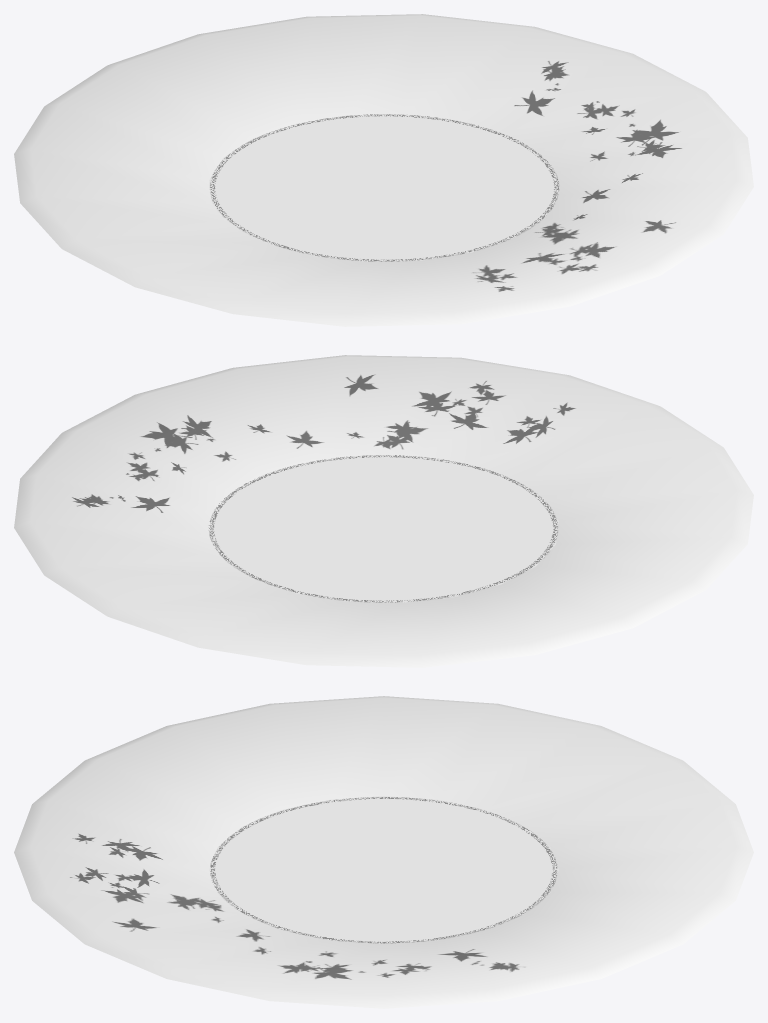
Rendered from Plate.FBX.
3 renders of one model, top to bottom at view 1: azimuth 30°, elevation 25°; view 2: azimuth 150°, elevation 25°; view 3: azimuth 270°, elevation 25°, orthographic.
Visible parts, largest first — view 1: Plate; view 2: Plate; view 3: Plate.
Part boxes in pixels (x1,y1,x2,y2): Plate: [14, 14, 753, 326]; Plate: [14, 355, 753, 667]; Plate: [14, 696, 753, 1008].
Size of the model in its own units: 29.92 by 1.71 by 29.92.
1 material, 1 textured.
